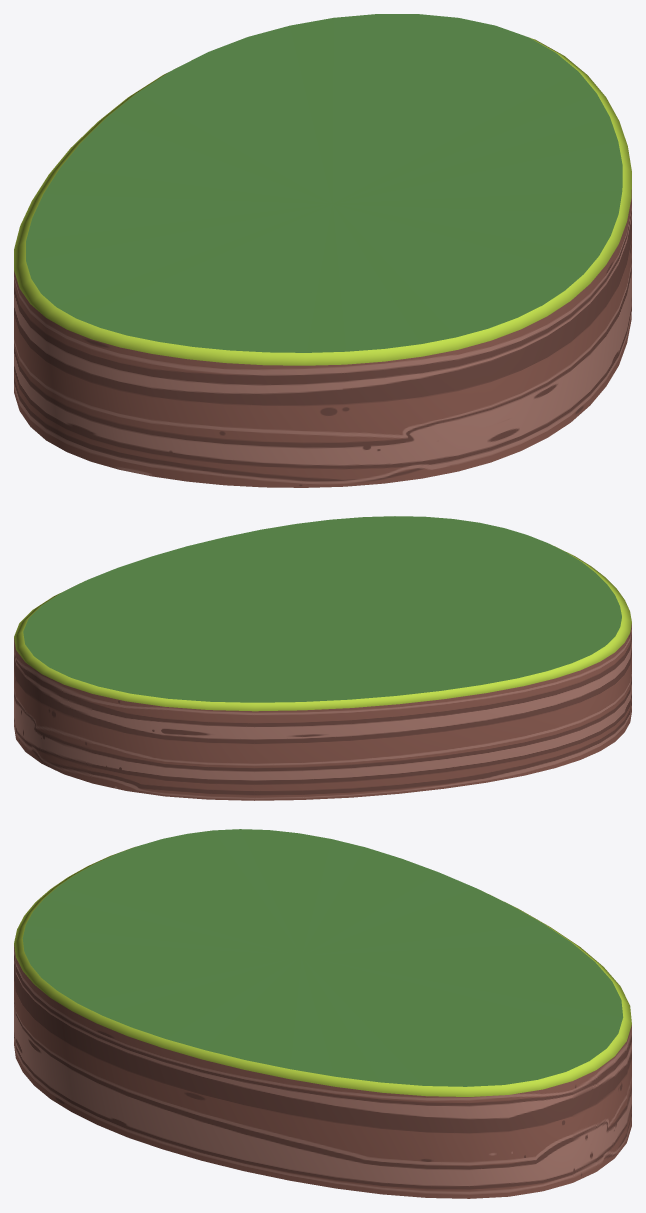
Rendered from grasschunk6.glb.
The picture shows the model from 3 angles, top to bottom: view 1: azimuth 30°, elevation 25°; view 2: azimuth 150°, elevation 25°; view 3: azimuth 270°, elevation 25°; orthographic projection. The views are drawn at different scales.
Parts seen in each view (by area): view 1: Plate_Curved_Var16_08_Forest_mat_01_0; view 2: Plate_Curved_Var16_08_Forest_mat_01_0; view 3: Plate_Curved_Var16_08_Forest_mat_01_0.
Part boxes in pixels (x1,y1,x2,y2): Plate_Curved_Var16_08_Forest_mat_01_0: (14,14,631,487); Plate_Curved_Var16_08_Forest_mat_01_0: (14,516,631,800); Plate_Curved_Var16_08_Forest_mat_01_0: (14,829,631,1198).
Size of the model in its own units: 0.1782 by 0.0335 by 0.1745.
1 material, 1 textured.
